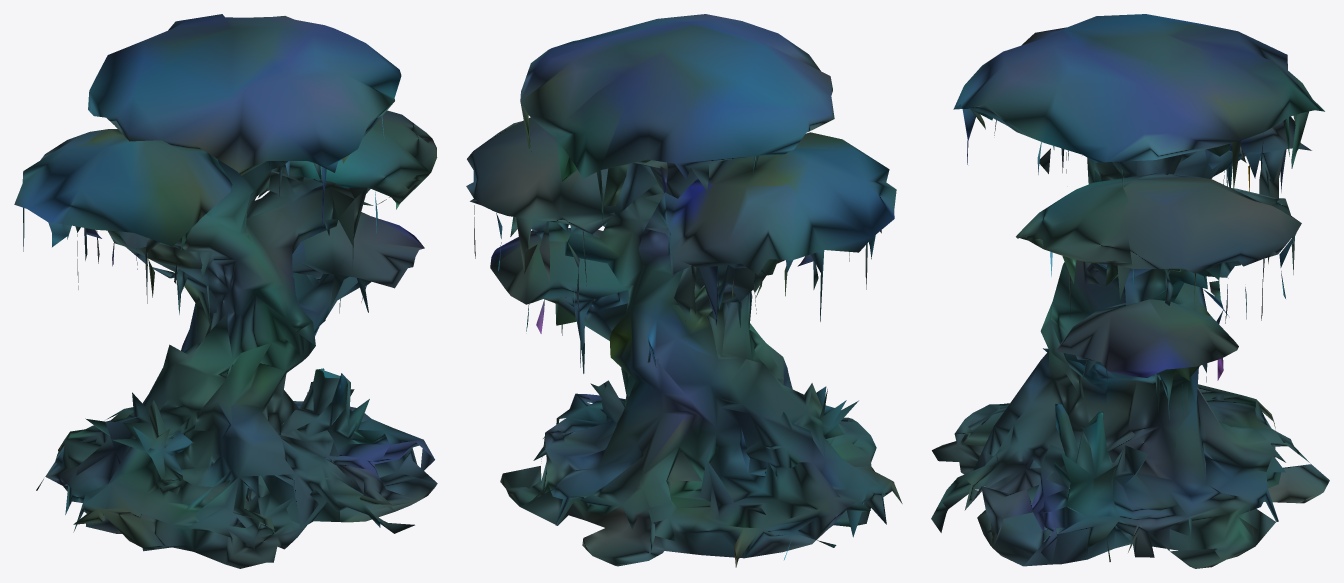
Rendered from crystal-tree.glb.
The picture shows the model from 3 angles, left to right: view 1: azimuth 30°, elevation 25°; view 2: azimuth 150°, elevation 25°; view 3: azimuth 270°, elevation 25°; orthographic projection. The views are drawn at different scales.
Parts seen in each view (by area): view 1: Mesh_0; view 2: Mesh_0; view 3: Mesh_0.
Boxes of the visible parts, x1=… form: Mesh_0: x1=14, y1=14, x2=437, y2=568; Mesh_0: x1=466, y1=14, x2=902, y2=567; Mesh_0: x1=931, y1=14, x2=1329, y2=568.
Size of the model in its own units: 2.74 by 3 by 2.35.
